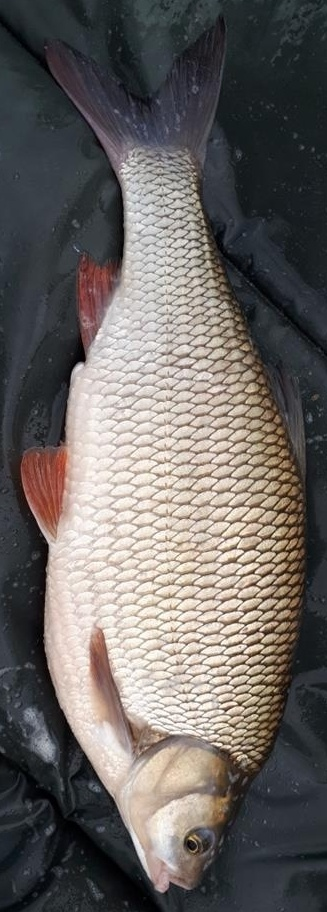Leuciscus idus: (20, 20, 307, 892)
